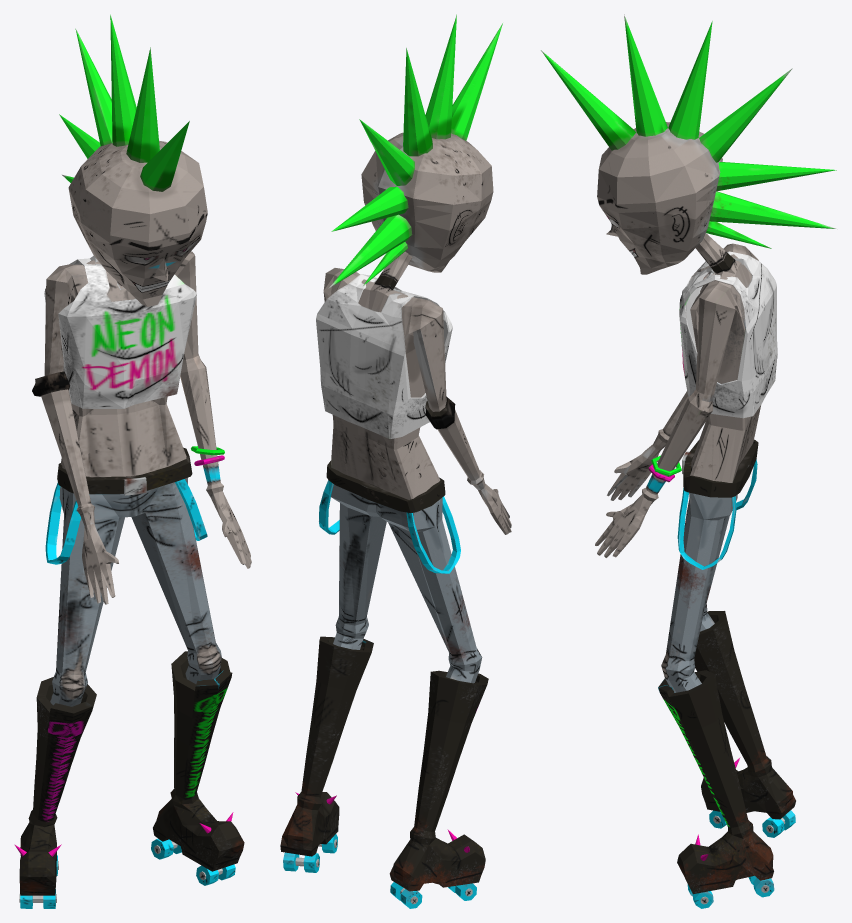
File: punkAnimation_000017.obj
The picture shows the model from 3 angles, left to right: view 1: azimuth 30°, elevation 25°; view 2: azimuth 150°, elevation 25°; view 3: azimuth 270°, elevation 25°; orthographic projection. The views are drawn at different scales.
Visible parts, largest first — view 1: Cube.004_Cube.003; view 2: Cube.004_Cube.003; view 3: Cube.004_Cube.003.
Part boxes in pixels (x1,y1,x2,y2): Cube.004_Cube.003: [14, 14, 251, 908]; Cube.004_Cube.003: [280, 14, 511, 908]; Cube.004_Cube.003: [541, 14, 836, 908].
Size of the model in its own units: 1.82 by 7.42 by 2.39.
